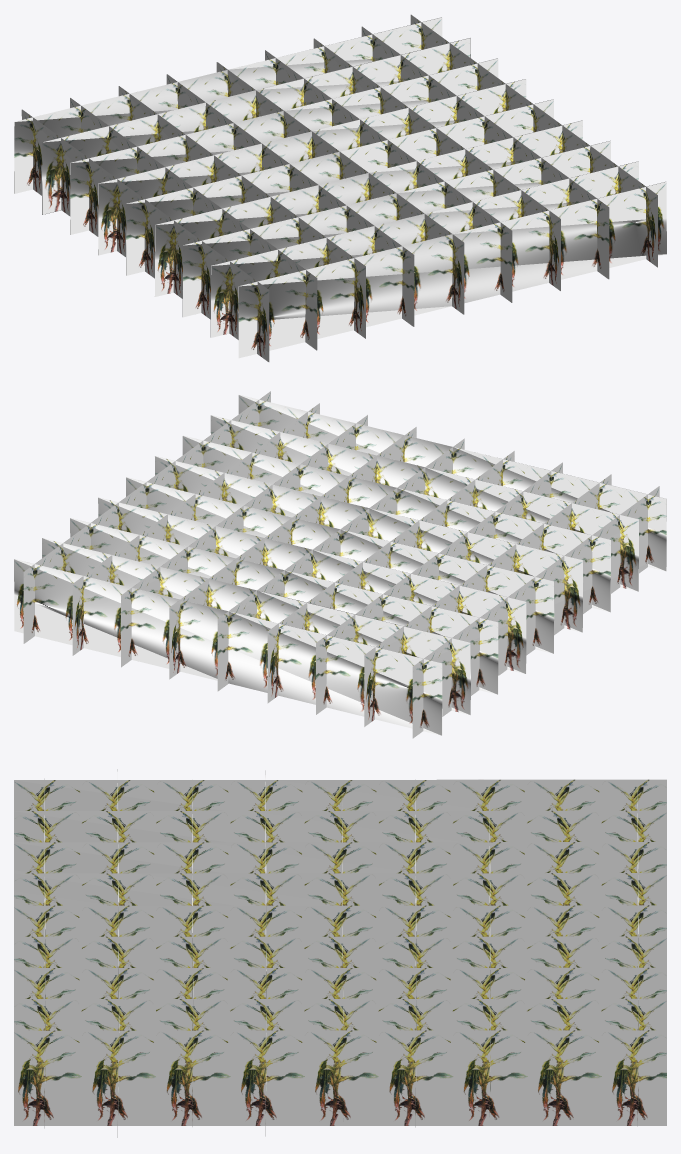
Rendered from Corn.fbx.
The picture shows the model from 3 angles, top to bottom: view 1: azimuth 30°, elevation 25°; view 2: azimuth 150°, elevation 25°; view 3: azimuth 270°, elevation 25°; orthographic projection. The views are drawn at different scales.
Parts seen in each view (by area): view 1: Milho_00; view 2: Milho_00; view 3: Milho_00.
Boxes of the visible parts, left/top/right/bottom form: Milho_00: left=14, top=14, right=666, bottom=361; Milho_00: left=14, top=391, right=666, bottom=738; Milho_00: left=14, top=769, right=666, bottom=1137.
Size of the model in its own units: 9.29 by 1.51 by 9.28.
